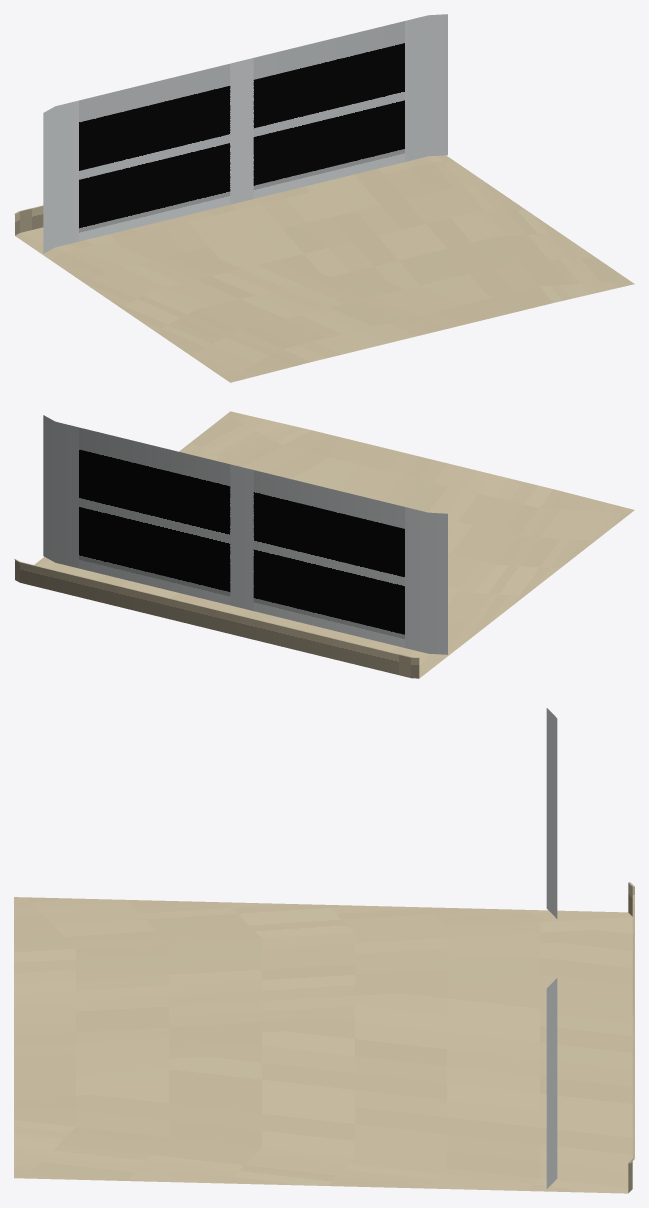
Rendered from tank_large_roof_2_0.obj.
The picture shows the model from 3 angles, top to bottom: view 1: azimuth 30°, elevation 25°; view 2: azimuth 150°, elevation 25°; view 3: azimuth 270°, elevation 25°; orthographic projection. The views are drawn at different scales.
Parts seen in each view (by area): view 1: tank_large_roof_2_0; view 2: tank_large_roof_2_0; view 3: tank_large_roof_2_0.
Part boxes in pixels (bbox=[...]): tank_large_roof_2_0: bbox=[14, 14, 634, 382]; tank_large_roof_2_0: bbox=[14, 411, 634, 678]; tank_large_roof_2_0: bbox=[14, 708, 634, 1193].
Bounding box in the file's own units: 3 × 1.02 × 2.8.
